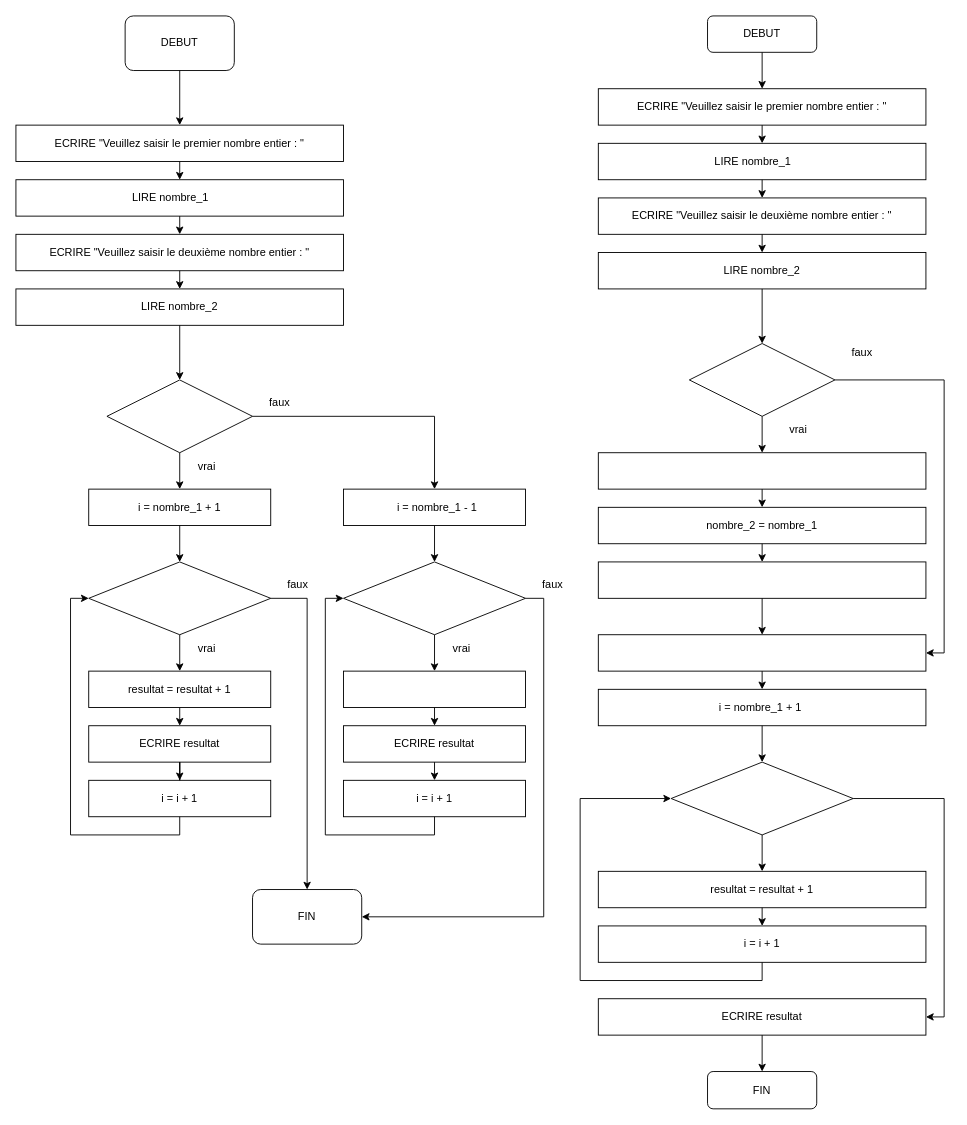
Some shapes in this 967 by 1125 pixel diagram are drawn without their labels. The shapes that lost their labels are listed below. From the top down, each one's centre as x and y in pixels, then its label:
point 761,379: nombre_1 > nombre_2
point 179,416: nombre_1 < nombre_2
point 761,470: temporaire = nombre_2
point 179,598: i <= nombre_2 - 1
point 434,598: i <= nombre_2 + 1
point 761,579: nombre_1 = temporaire
point 761,652: resultat = nombre_1
point 434,689: resultat <-- resultat - 1
point 761,798: i < nombre_2 - 1
